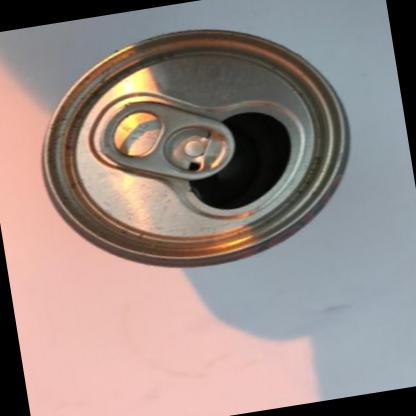Metal: (42, 27, 348, 265)
